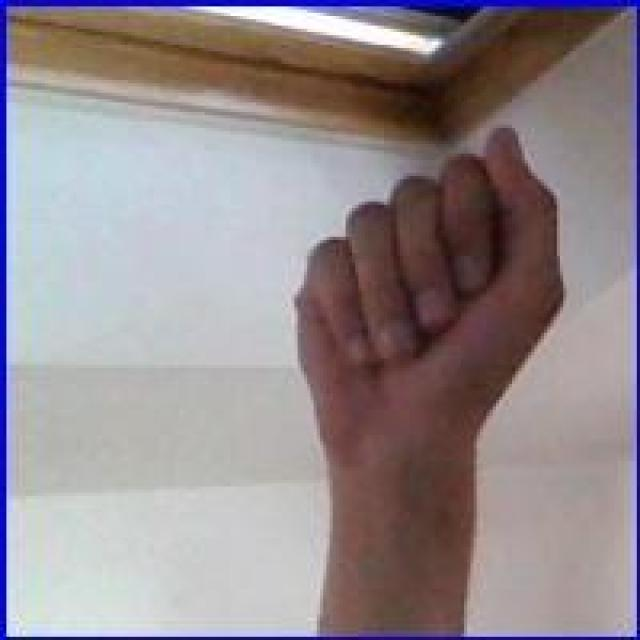A: (277, 123, 568, 466)
